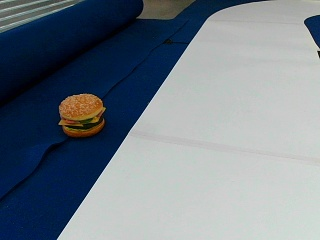burger: (57, 92, 106, 135)
